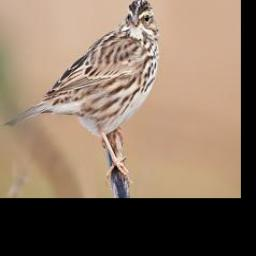Sparrow: (3, 0, 159, 188)
